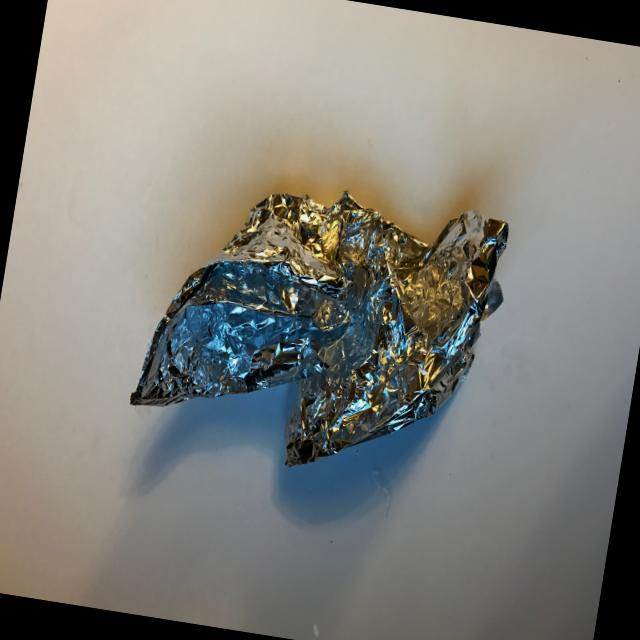Metal: (105, 99, 540, 521)
